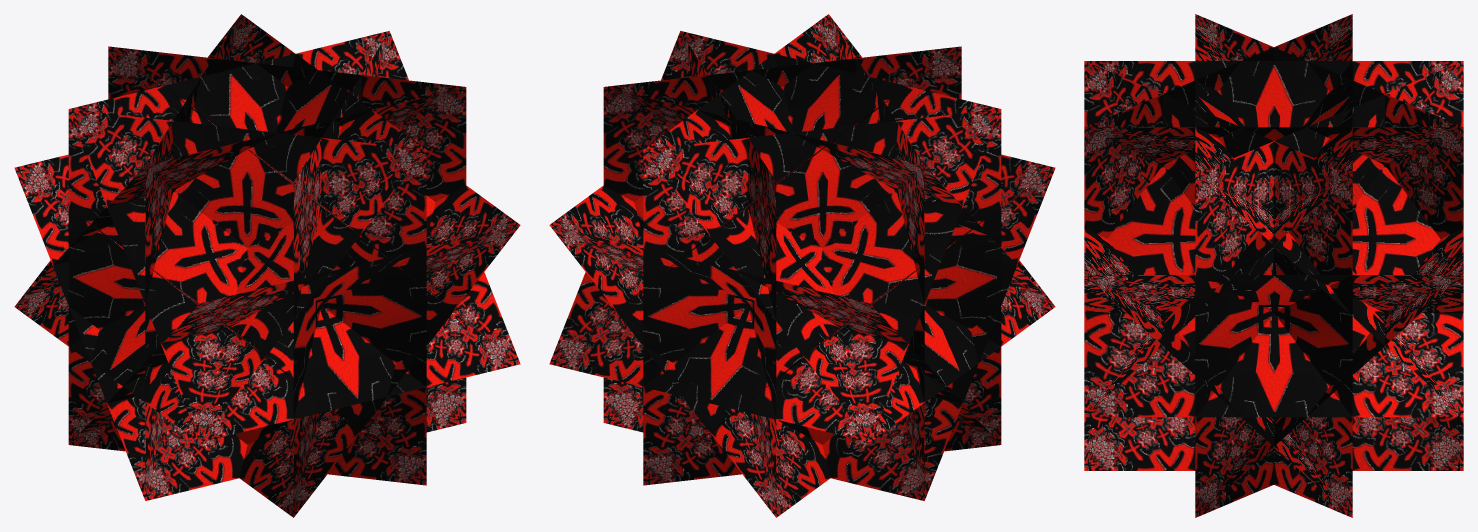
File: 1GreatRhombihexahedron.gltf
The picture shows the model from 3 angles, left to right: view 1: azimuth 30°, elevation 25°; view 2: azimuth 150°, elevation 25°; view 3: azimuth 270°, elevation 25°; orthographic projection. The views are drawn at different scales.
Parts seen in each view (by area): view 1: 1GreatRhombihexahedron; view 2: 1GreatRhombihexahedron; view 3: 1GreatRhombihexahedron.
Part boxes in pixels (x1,y1,x2,y2): 1GreatRhombihexahedron: [14, 14, 520, 517]; 1GreatRhombihexahedron: [549, 14, 1055, 517]; 1GreatRhombihexahedron: [1084, 14, 1463, 517].
Size of the model in its own units: 1 by 1 by 1.
Materials: 1 (1 with a texture image).
